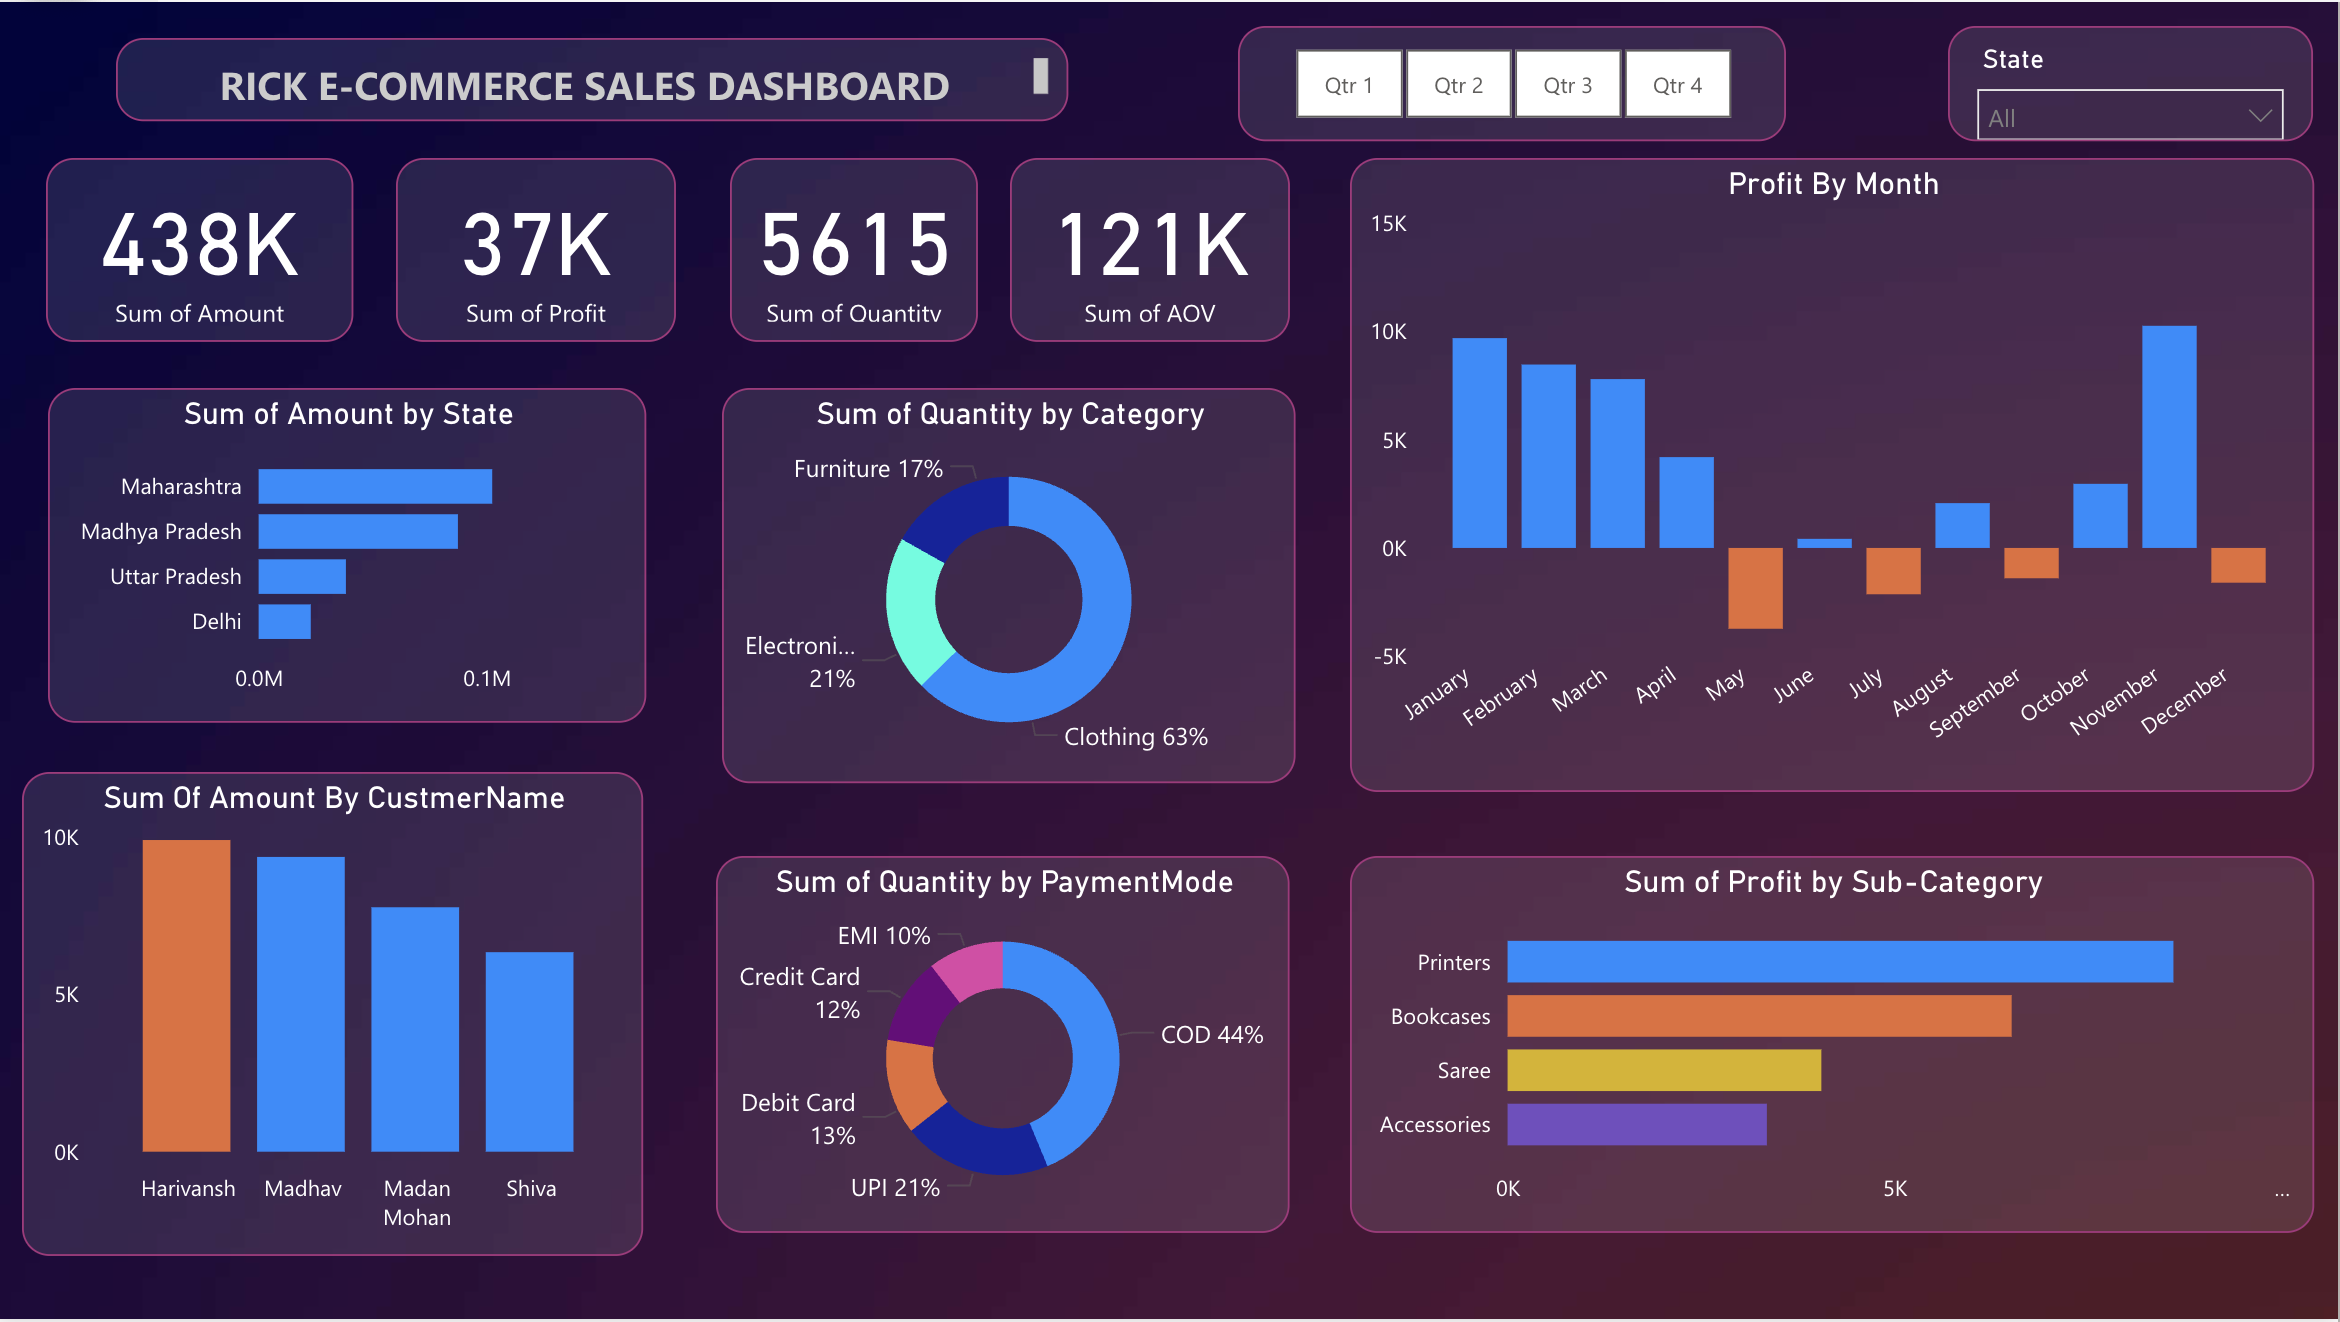

The page's visual inventory and layout, read from the dashboard file:
{"tool":"powerbi","page":{"name":"Page 1","canvas":[1280,720],"ordinal":0},"visuals":[{"type":"textbox","box":[65.1,19.5,520.5,45.5],"z":0},{"type":"columnChart","title":"Profit By Month","fields":{"Category":["Orders.Order Date.Variation.Date Hierarchy.Month"],"Y":["Details.Profit"]},"box":[740.4,85.3,527.1,346.4],"z":1000},{"type":"donutChart","fields":{"Category":["Details.Category"],"Y":["Details.Quantity"]},"box":[396.5,210.8,313.7,215.8],"z":2000},{"type":"donutChart","fields":{"Y":["Details.Quantity"],"Category":["Details.PaymentMode"]},"box":[394,466.8,313.7,205.8],"z":3000},{"type":"card","fields":{"Values":["Details.Amount"]},"box":[27.6,85.3,168.2,100.4],"z":4000},{"type":"card","fields":{"Values":["Details.Profit"]},"box":[218.4,85.3,153.1,100.4],"z":5000},{"type":"card","fields":{"Values":["Details.Quantity"]},"box":[401.6,85.3,135.5,100.4],"z":6000},{"type":"card","fields":{"Values":["Details.AOV"]},"box":[554.7,85.3,153.1,100.4],"z":7000},{"type":"columnChart","title":"Sum Of Amount By CustmerName","fields":{"Category":["Orders.CustomerName"],"Y":["Details.Amount"]},"box":[14.6,420.8,339.6,264.6],"z":8000},{"type":"barChart","fields":{"Category":["Details.Sub-Category"],"Y":["Details.Profit"]},"box":[740,467,527,206],"z":9000},{"type":"barChart","fields":{"Y":["Details.Amount"],"Category":["Orders.State"]},"box":[28.1,211,327,182.9],"z":10000},{"type":"slicer","fields":{"Values":["Orders.State"]},"box":[1067,13,199.5,62.9],"z":11000},{"type":"slicer","fields":{"Values":["Orders.Order Date.Variation.Date Hierarchy.Quarter"]},"box":[678.8,13,299.3,62.9],"z":12000}]}

Visuals, with their boxes in screenshot pixels (x1, y1, x2, y2), scaled from the page's 1280x720 canvas onto the 2340x1322 screenshot:
textbox: l=119, t=36, r=1071, b=119
"Profit By Month" columnChart: l=1354, t=157, r=2317, b=793
donutChart - Details.Category x Details.Quantity: l=725, t=387, r=1298, b=783
donutChart - Details.Quantity x Details.PaymentMode: l=720, t=857, r=1294, b=1235
card - Details.Amount: l=50, t=157, r=358, b=341
card - Details.Profit: l=399, t=157, r=679, b=341
card - Details.Quantity: l=734, t=157, r=982, b=341
card - Details.AOV: l=1014, t=157, r=1294, b=341
"Sum Of Amount By CustmerName" columnChart: l=27, t=773, r=648, b=1258
barChart - Details.Sub-Category x Details.Profit: l=1353, t=857, r=2316, b=1236
barChart - Details.Amount x Orders.State: l=51, t=387, r=649, b=723
slicer - Orders.State: l=1951, t=24, r=2315, b=139
slicer - Orders.Order Date.Variation.Date Hierarchy.Quarter: l=1241, t=24, r=1788, b=139
